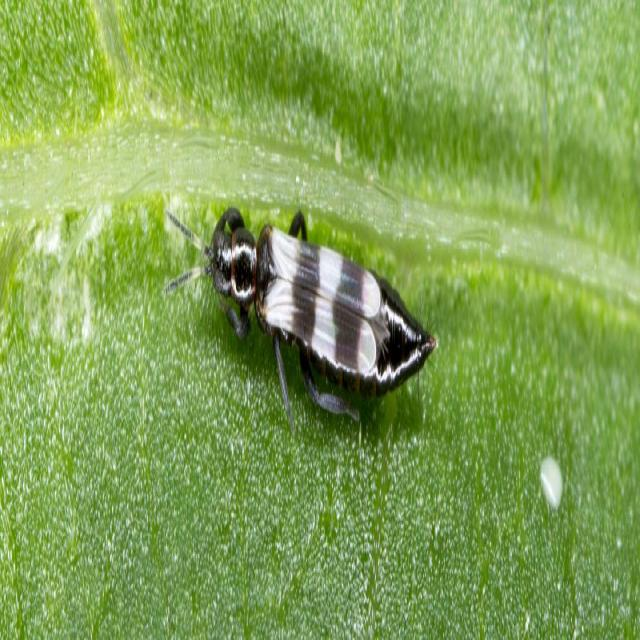Thrip-Adult-: (158, 174, 447, 450)
